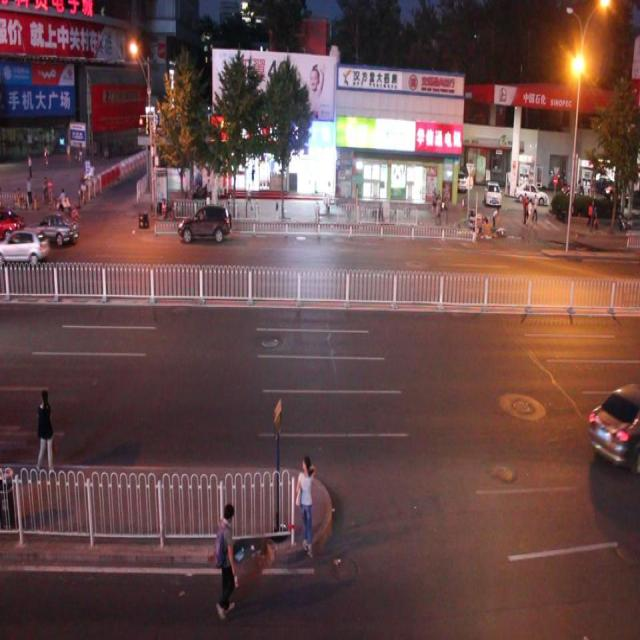car: (586, 382, 640, 469), (178, 202, 232, 244), (26, 209, 80, 248), (1, 223, 49, 266)
